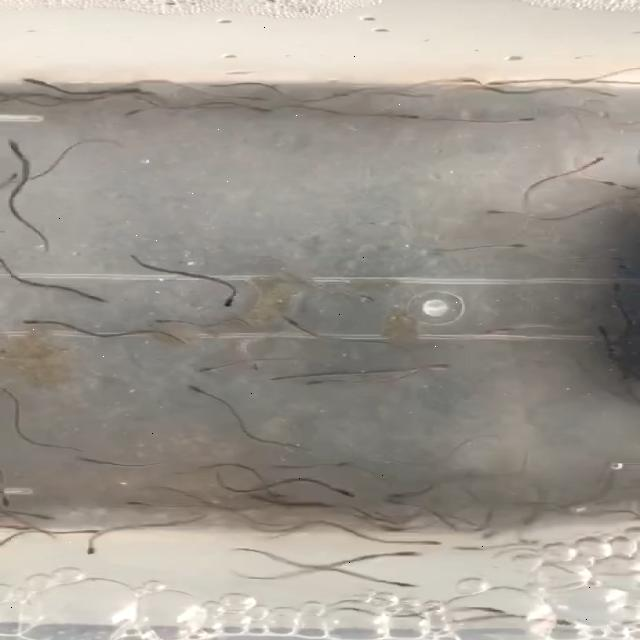active_glass_eel: (124, 495, 178, 513), (122, 100, 172, 118), (376, 104, 426, 122), (226, 87, 282, 103), (3, 134, 37, 160), (368, 576, 420, 593), (484, 200, 528, 220), (4, 308, 54, 325), (100, 82, 160, 96), (422, 360, 474, 376), (296, 374, 342, 392), (338, 284, 383, 302), (471, 322, 516, 340), (10, 76, 60, 92), (478, 74, 535, 88), (570, 155, 614, 173), (447, 540, 499, 555), (379, 546, 433, 560), (470, 524, 512, 542), (364, 518, 406, 536), (504, 108, 548, 125), (400, 532, 452, 546), (602, 278, 634, 300), (527, 612, 571, 628), (446, 70, 488, 86), (598, 176, 640, 192), (182, 382, 215, 402), (214, 291, 250, 309), (602, 254, 636, 273), (318, 484, 360, 499), (590, 322, 614, 348), (241, 351, 272, 371), (79, 534, 107, 556), (322, 458, 366, 472), (382, 488, 422, 503), (144, 309, 177, 327), (274, 313, 306, 331), (18, 512, 66, 524), (225, 104, 277, 115), (252, 494, 290, 509), (0, 488, 27, 509), (74, 448, 105, 466), (198, 361, 231, 377), (471, 602, 509, 614), (0, 169, 23, 188), (500, 240, 534, 252)
